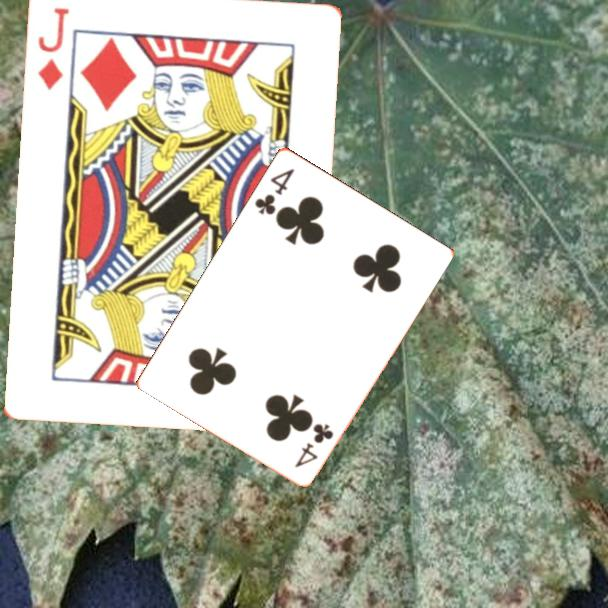c04: (251, 164, 297, 218), (291, 419, 336, 470)
d11: (34, 3, 72, 92)
